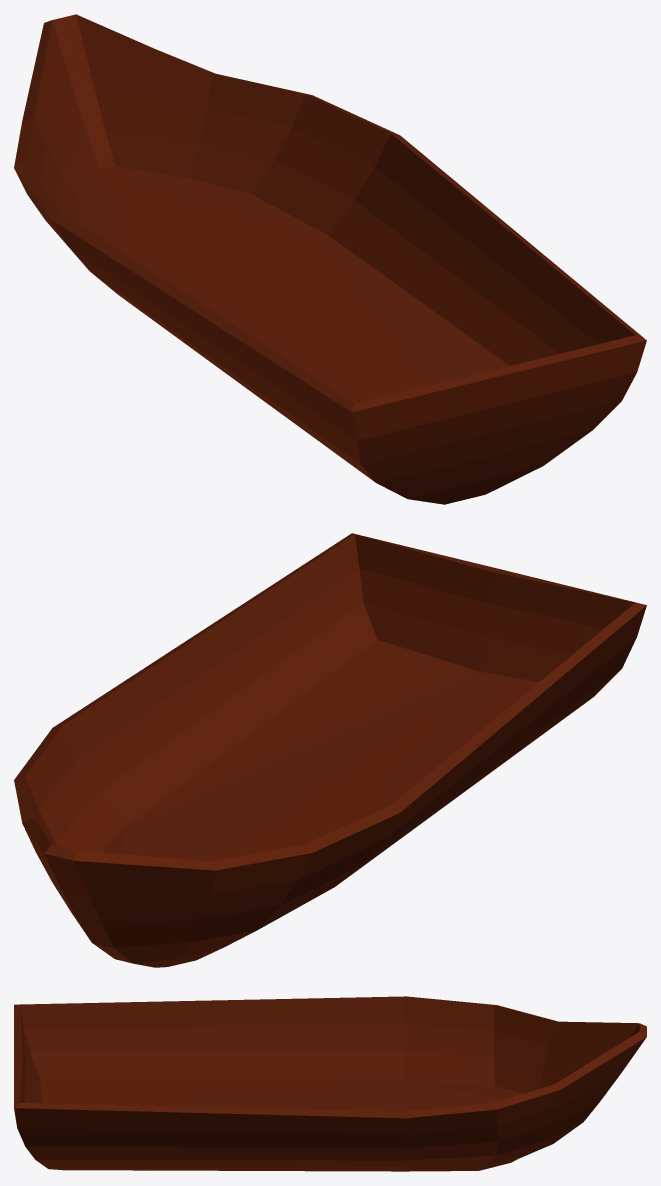
File: Boat.obj
3 renders of one model, top to bottom at view 1: azimuth 30°, elevation 25°; view 2: azimuth 150°, elevation 25°; view 3: azimuth 270°, elevation 25°, orthographic. The views are drawn at different scales.
Parts seen in each view (by area): view 1: Boat_deep_Plane; view 2: Boat_deep_Plane; view 3: Boat_deep_Plane.
Boxes of the visible parts, bbox=[...] form: Boat_deep_Plane: bbox=[14, 14, 646, 504]; Boat_deep_Plane: bbox=[14, 533, 646, 967]; Boat_deep_Plane: bbox=[14, 996, 646, 1171].
Bounding box in the file's own units: 1.52 × 0.7904 × 3.33.
